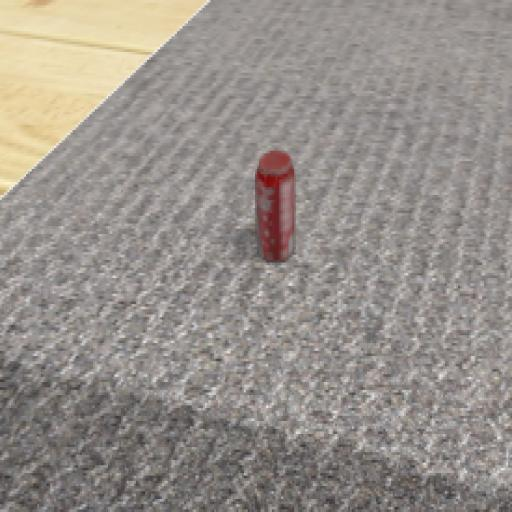COCA: (222, 95, 340, 327)
